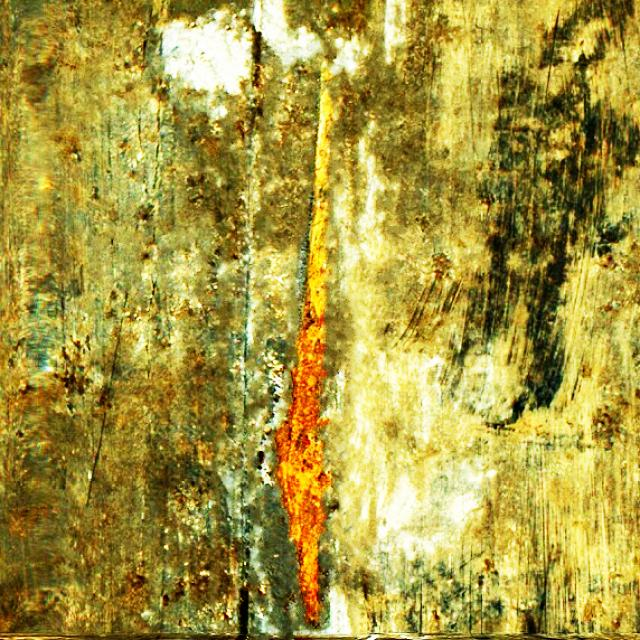Corrosion: (275, 87, 336, 629), (321, 67, 334, 82)
